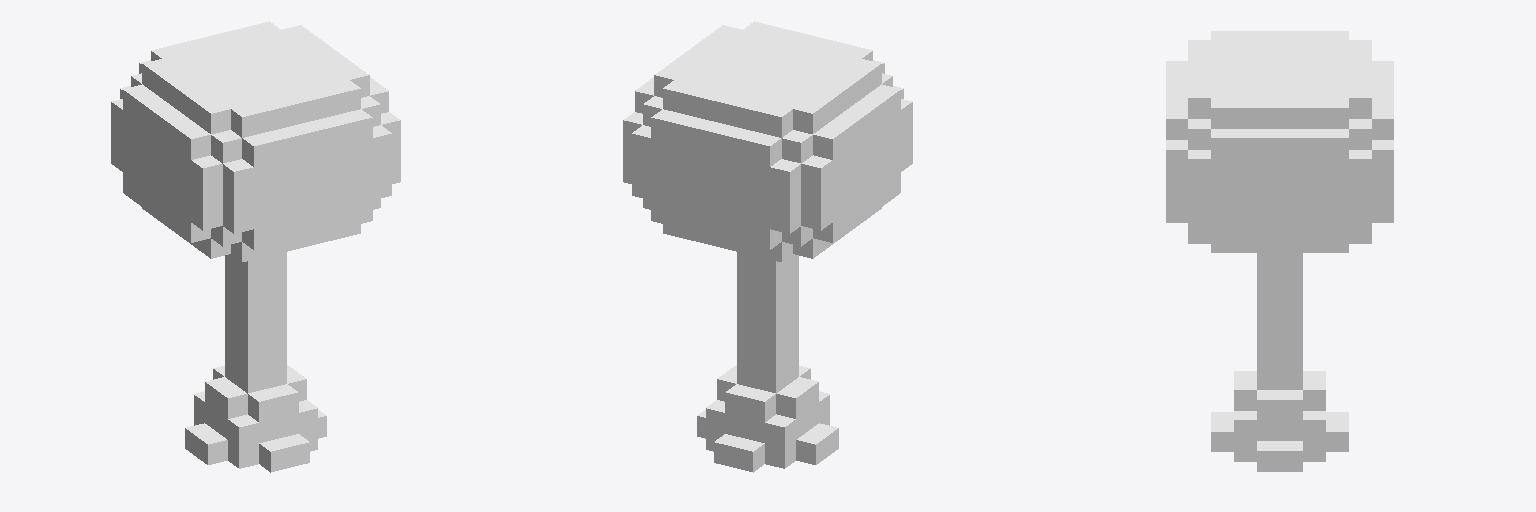
The model's file is TreeGreen.obj.
3 renders of one model, left to right at view 1: azimuth 30°, elevation 25°; view 2: azimuth 150°, elevation 25°; view 3: azimuth 270°, elevation 25°, orthographic.
Visible parts, largest first — view 1: object 1; view 2: object 1; view 3: object 1.
Boxes of the visible parts, x1,y1,x2,y2 form: object 1: [111, 21, 400, 472]; object 1: [623, 21, 912, 472]; object 1: [1166, 31, 1393, 471].
Bounding box in the file's own units: 1 × 1.8 × 1.